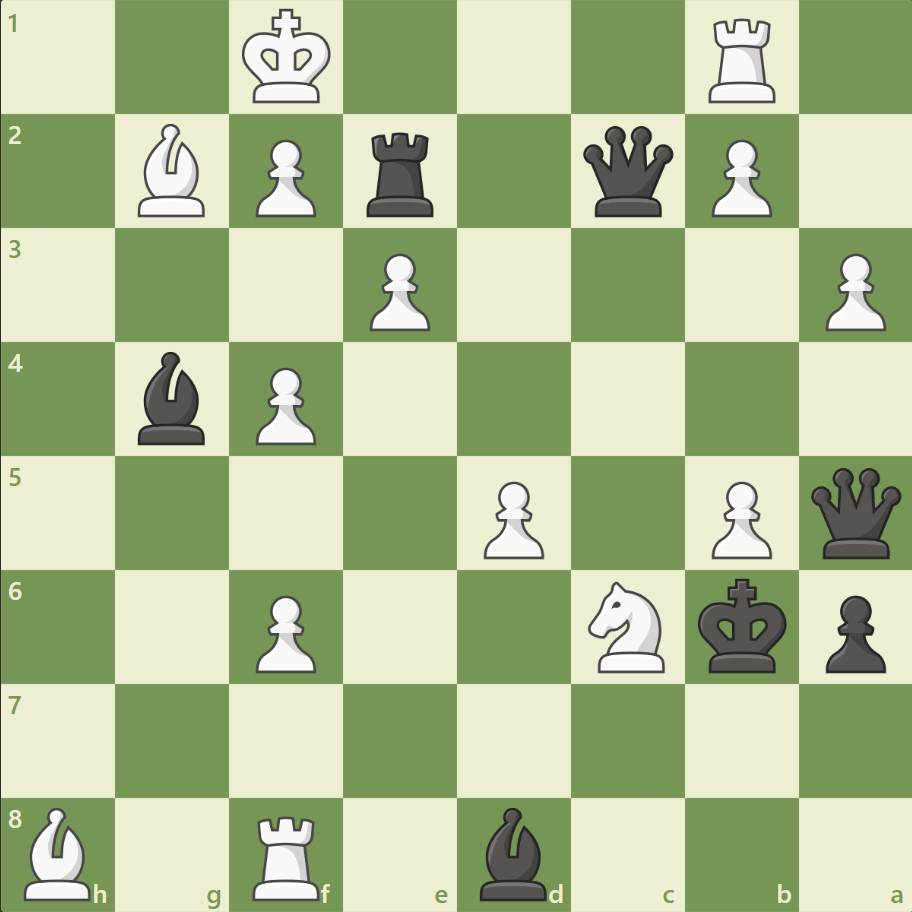B: (17, 801, 101, 904), (131, 120, 215, 222)
K: (238, 4, 338, 112)
N: (579, 575, 676, 677)
P: (247, 586, 322, 677), (701, 473, 776, 564), (474, 473, 549, 564), (247, 359, 322, 450), (701, 132, 776, 223), (247, 132, 322, 223), (815, 246, 889, 337), (361, 246, 435, 337)
R: (246, 806, 329, 904), (700, 12, 783, 109)
b: (471, 801, 555, 904), (131, 347, 215, 449)
k: (692, 571, 792, 679)
p: (815, 586, 889, 677)
q: (578, 122, 677, 222), (805, 463, 904, 562)
r: (360, 125, 442, 222)
